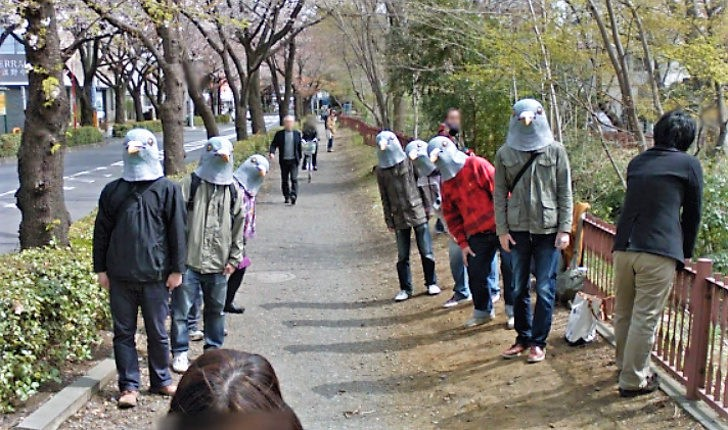people: (630, 106, 699, 394), (109, 128, 182, 392), (500, 99, 556, 363), (429, 141, 507, 296), (188, 136, 229, 358), (182, 347, 284, 430), (371, 128, 409, 289), (238, 147, 266, 322), (272, 116, 300, 200), (410, 141, 437, 225), (324, 107, 336, 156), (302, 121, 319, 153)
